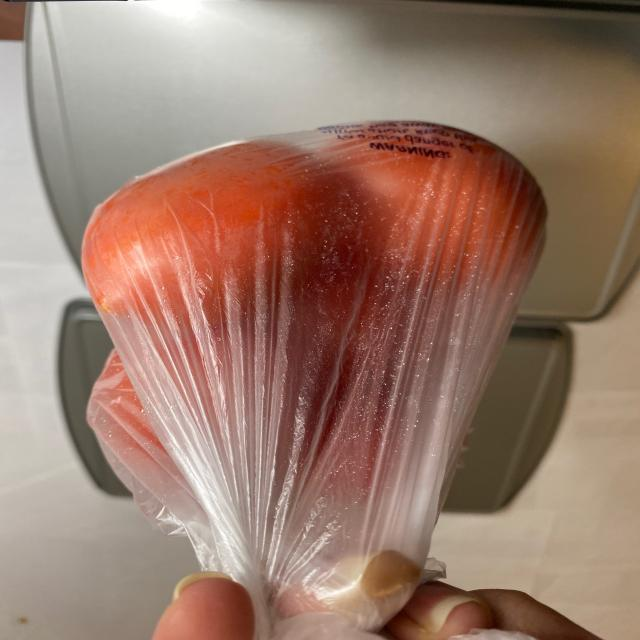tomato: (76, 126, 558, 512)
